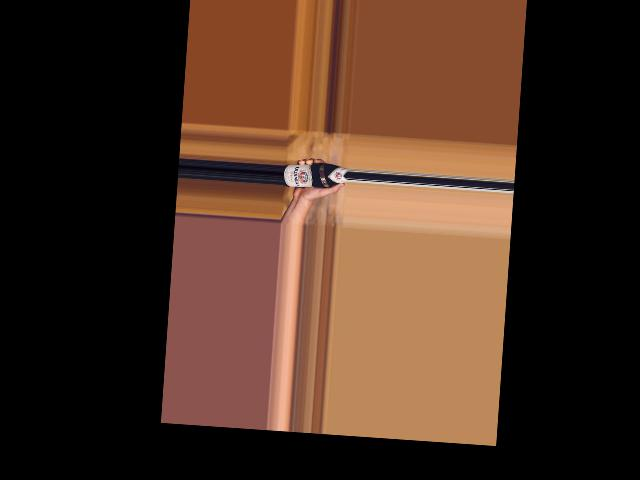beer: (282, 160, 347, 191)
